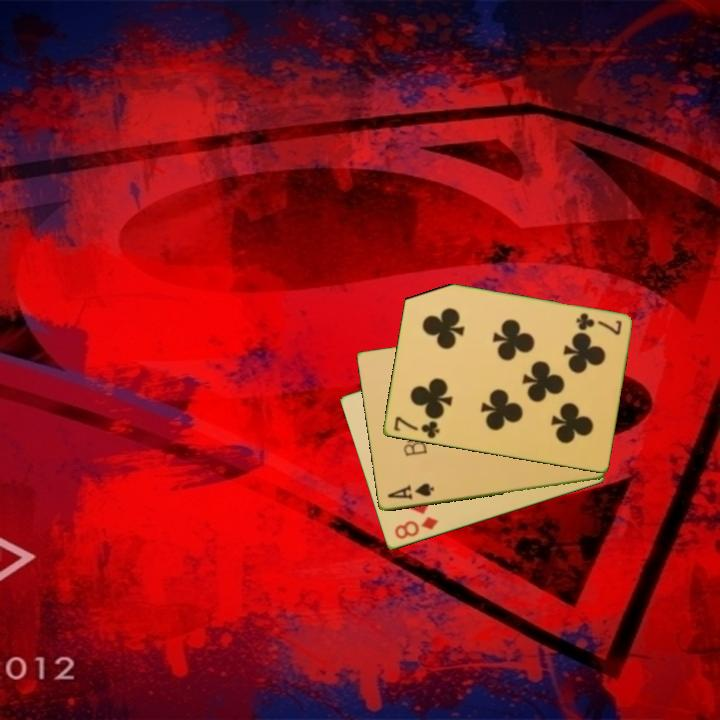7c: (390, 413, 442, 442), (572, 310, 624, 338)
8d: (391, 513, 441, 542)
As: (383, 480, 437, 503)
